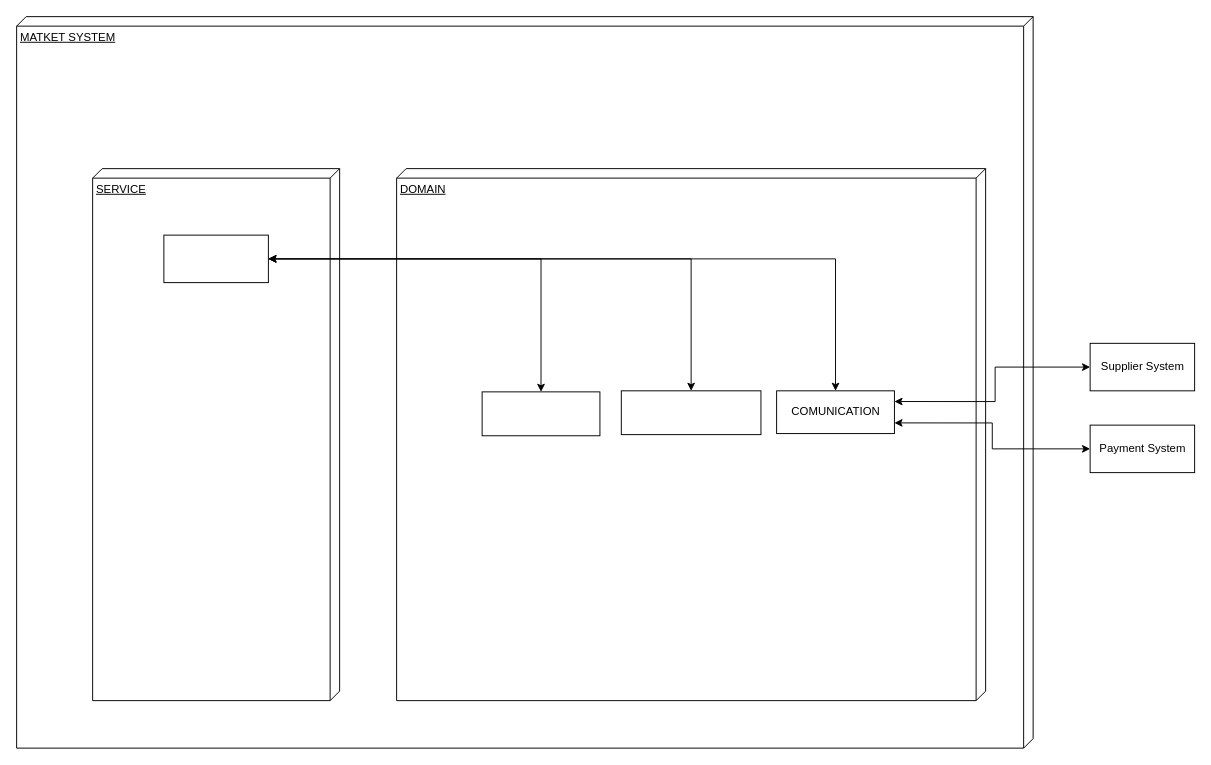
Image size: 1211x765. Some labels were removed from this diagram. The shapes that lost their labels are listed below. From the top down, each one's centre as x and y in pixels, then its label:
At point (215, 258): "Market System".
At point (540, 413): "USER CONTROLLER".
At point (690, 412): "MARKET CONTROLER".
